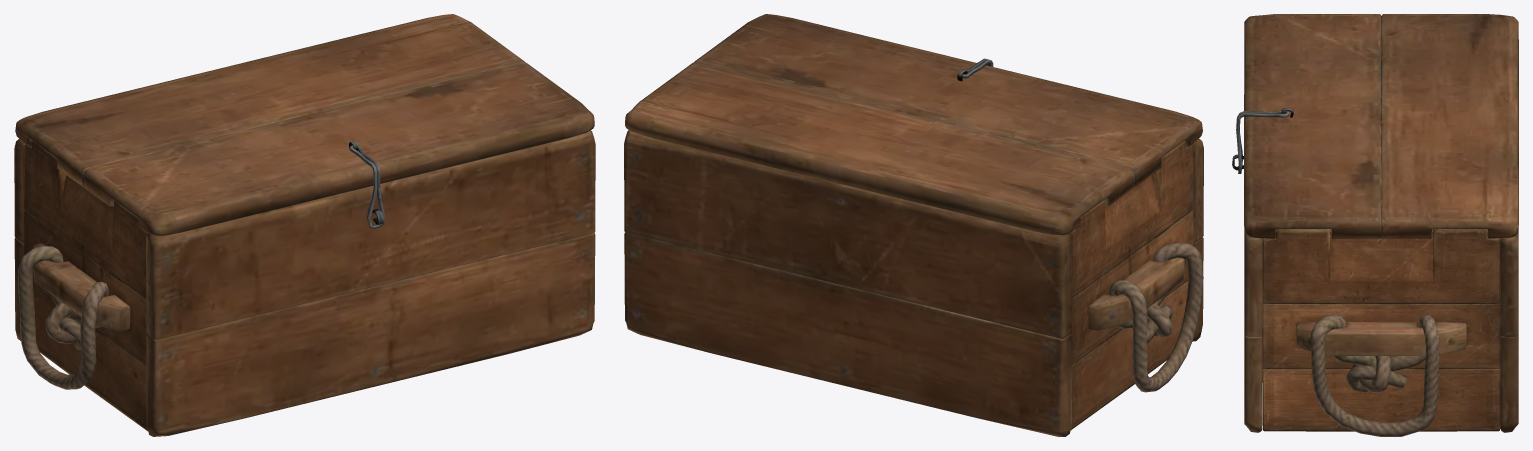
File: wooden_crate_01.light.glb
3 renders of one model, left to right at view 1: azimuth 30°, elevation 25°; view 2: azimuth 150°, elevation 25°; view 3: azimuth 270°, elevation 25°, orthographic. The views are drawn at different scales.
Parts seen in each view (by area): view 1: wooden_crate_01, wooden_crate_01_lid, wooden_crate_01_latch; view 2: wooden_crate_01, wooden_crate_01_lid; view 3: wooden_crate_01_lid, wooden_crate_01, wooden_crate_01_latch.
Boxes of the visible parts, x1,y1,x2,y2 form: wooden_crate_01: [14, 130, 595, 436]; wooden_crate_01_lid: [15, 14, 594, 236]; wooden_crate_01_latch: [349, 145, 384, 228]; wooden_crate_01: [624, 130, 1203, 436]; wooden_crate_01_lid: [625, 14, 1202, 235]; wooden_crate_01_lid: [1244, 14, 1518, 238]; wooden_crate_01: [1232, 154, 1518, 436]; wooden_crate_01_latch: [1236, 110, 1289, 173].
Size of the model in its own units: 2 by 0.8469 by 0.99.
1 material, 1 textured.
